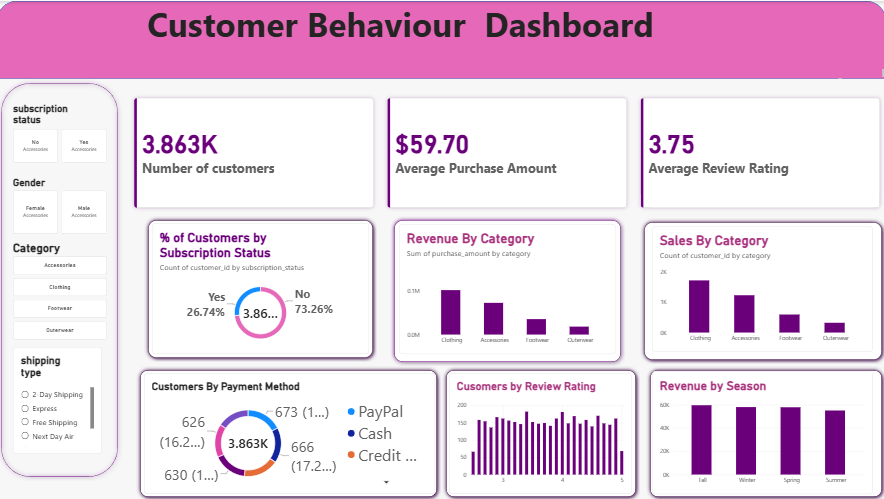

What the dashboard file says about the page in this screenshot:
{"tool":"powerbi","page":{"name":"Page 1","canvas":[1920,1080],"ordinal":0},"visuals":[{"type":"cardVisual","fields":{"Data":["customer_shopping shopping_data.Number of customers","customer_shopping shopping_data.Average Purchase Amount","customer_shopping shopping_data.Average Review Rating"]},"box":[285.1,198.7,1635.1,259.2],"z":0},{"type":"shape","box":[0,0,1920.2,168.5],"z":1000},{"type":"textbox","box":[0,0,1743.1,1036.8],"z":2000},{"type":"shape","box":[848.9,464.4,507.6,324],"z":3000},{"type":"textbox","box":[0,166.3,1825.2,2.2],"z":4000},{"type":"textbox","box":[0,147.3,1920,22.1],"z":6000},{"type":"shape","box":[317.5,464.4,503.3,315.4],"z":7000},{"type":"shape","box":[1388.9,468.7,531.4,315.4],"z":8000},{"type":"textbox","box":[100,100,300,300],"z":8002},{"type":"donutChart","title":"% of Customers by Subscription Status","fields":{"Category":["customer_shopping shopping_data.subscription_status"],"Y":["CountNonNull(customer_shopping shopping_data.customer_id)"]},"box":[334.8,479.5,468.7,283],"z":8003},{"type":"clusteredColumnChart","title":"Revenue By Category","fields":{"Category":["customer_shopping shopping_data.category"],"Y":["Sum(customer_shopping shopping_data.purchase_amount)"]},"box":[868.3,481.7,468.7,280.8],"z":8004},{"type":"clusteredColumnChart","title":"Sales By Category","fields":{"Category":["customer_shopping shopping_data.category"],"Y":["CountNonNull(customer_shopping shopping_data.customer_id)"]},"box":[1414.8,486,477.4,272.2],"z":8006},{"type":"shape","box":[0,168.5,270,868.3],"z":8007},{"type":"advancedSlicerVisual","title":"subscription status","fields":{"Label":["Min(customer_shopping shopping_data.category)"],"Values":["customer_shopping shopping_data.subscription_status"]},"box":[34.6,220.3,203,129.6],"z":8008},{"type":"advancedSlicerVisual","title":"Gender","fields":{"Label":["Min(customer_shopping shopping_data.category)"],"Values":["customer_shopping shopping_data.gender"]},"box":[34.6,380.2,203,123.1],"z":8009},{"type":"advancedSlicerVisual","title":"Category","fields":{"Values":["customer_shopping shopping_data.category"]},"box":[34.6,518.4,203,213.8],"z":8010},{"type":"listSlicer","title":"shipping type","fields":{"Values":["customer_shopping shopping_data.shipping_type"]},"box":[34.6,747.4,192.2,231.1],"z":8011},{"type":"shape","box":[300.2,788.4,658.8,291.6],"z":8013},{"type":"donutChart","title":"Customers By Payment Method","fields":{"Category":["customer_shopping shopping_data.payment_method"],"Y":["CountNonNull(customer_shopping shopping_data.customer_id)"]},"box":[317.5,803.5,628.6,261.4],"z":8014},{"type":"shape","box":[1401.8,788.4,518.4,291.6],"z":8015},{"type":"shape","box":[961.2,788.4,427.7,291.6],"z":8016},{"type":"clusteredColumnChart","title":"Cusomers by Review Rating","fields":{"Category":["customer_shopping shopping_data.review_rating"],"Y":["CountNonNull(customer_shopping shopping_data.customer_id)"]},"box":[976.3,803.5,395.3,261.4],"z":8017},{"type":"clusteredColumnChart","title":"Revenue by Season","fields":{"Category":["customer_shopping shopping_data.season"],"Y":["Sum(customer_shopping shopping_data.purchase_amount)"]},"box":[1414.8,799.2,477.4,265.7],"z":8018}]}

Visuals, with their boxes in screenshot pixels (x1, y1, x2, y2), scaled from the page's 1920x1080 canvas onto the 884x499 screenshot:
cardVisual - customer_shopping shopping_data.Number of customers x customer_shopping shopping_data.Average Purchase Amount: crop(131, 92, 883, 212)
shape: crop(0, 0, 883, 78)
textbox: crop(0, 0, 803, 479)
shape: crop(391, 215, 625, 364)
textbox: crop(0, 77, 840, 78)
textbox: crop(0, 68, 883, 78)
shape: crop(146, 215, 378, 360)
shape: crop(639, 217, 883, 362)
textbox: crop(46, 46, 184, 185)
"% of Customers by Subscription Status" donutChart: crop(154, 222, 370, 352)
"Revenue By Category" clusteredColumnChart: crop(400, 223, 616, 352)
"Sales By Category" clusteredColumnChart: crop(651, 225, 871, 350)
shape: crop(0, 78, 124, 479)
"subscription status" advancedSlicerVisual: crop(16, 102, 109, 162)
"Gender" advancedSlicerVisual: crop(16, 176, 109, 233)
"Category" advancedSlicerVisual: crop(16, 240, 109, 338)
"shipping type" listSlicer: crop(16, 345, 104, 452)
shape: crop(138, 364, 442, 498)
"Customers By Payment Method" donutChart: crop(146, 371, 436, 492)
shape: crop(645, 364, 883, 498)
shape: crop(443, 364, 639, 498)
"Cusomers by Review Rating" clusteredColumnChart: crop(450, 371, 632, 492)
"Revenue by Season" clusteredColumnChart: crop(651, 369, 871, 492)
